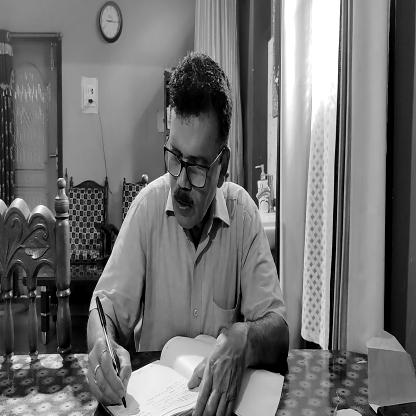Normal: (162, 53, 228, 232)
